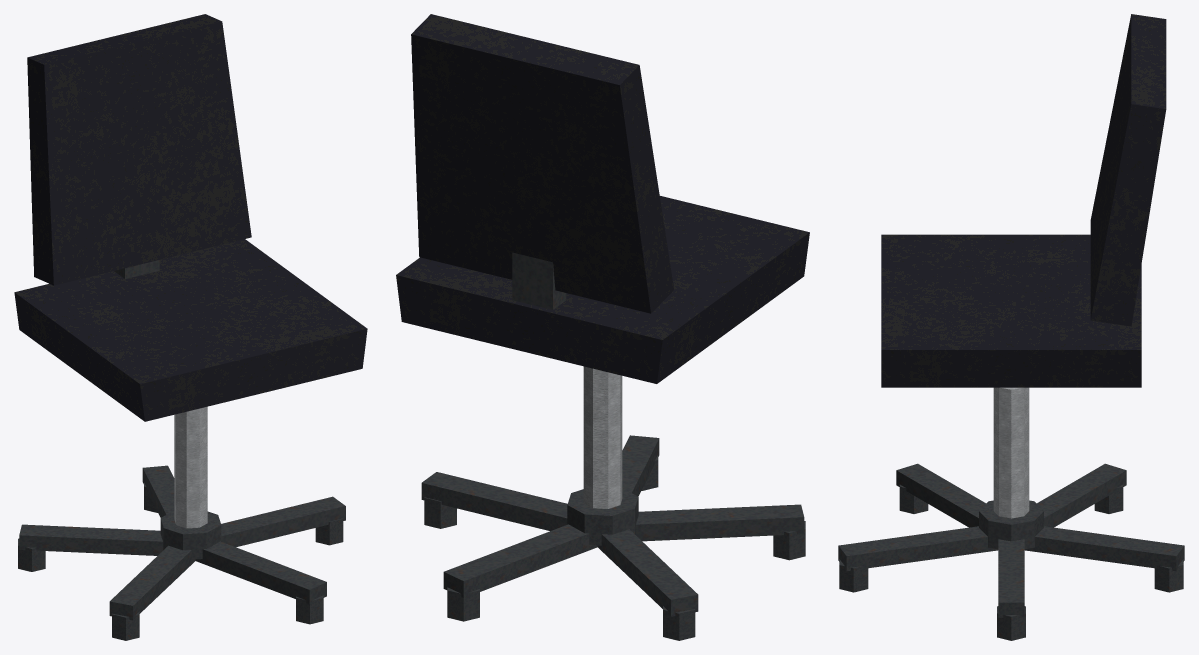
File: office_chair.glb
The picture shows the model from 3 angles, left to right: view 1: azimuth 30°, elevation 25°; view 2: azimuth 150°, elevation 25°; view 3: azimuth 270°, elevation 25°; orthographic projection. The views are drawn at different scales.
Parts seen in each view (by area): view 1: office_chair; view 2: office_chair; view 3: office_chair.
Part boxes in pixels (x1,y1,x2,y2): office_chair: (14,14,367,640); office_chair: (396,14,809,640); office_chair: (838,14,1184,640).
Size of the model in its own units: 0.5639 by 0.9407 by 0.5845.
Materials: 3 (3 with a texture image).
